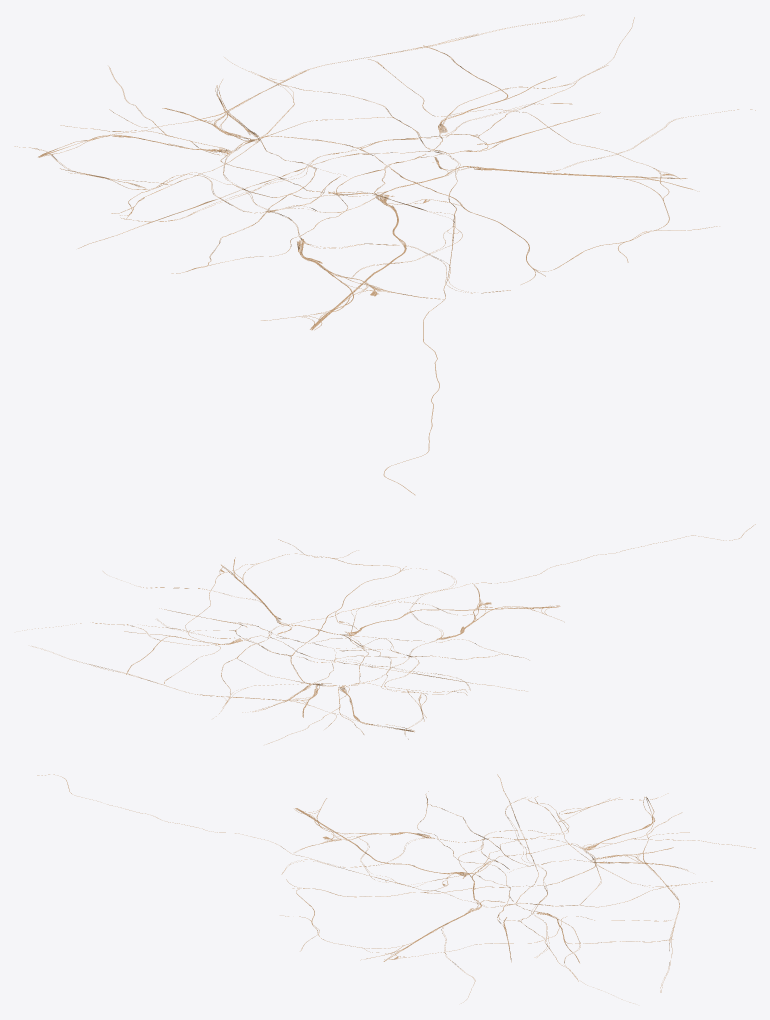
File: rail.glb
3 renders of one model, top to bottom at view 1: azimuth 30°, elevation 25°; view 2: azimuth 150°, elevation 25°; view 3: azimuth 270°, elevation 25°, orthographic. The views are drawn at different scales.
Visible parts, largest first — view 1: rail; view 2: rail; view 3: rail.
Part boxes in pixels (x1=…): rail: x1=14, y1=14, x2=755, y2=495; rail: x1=22, y1=524, x2=755, y2=744; rail: x1=37, y1=774, x2=755, y2=1003.
Bounding box in the file's own units: 13231 × 70.13 × 17952.
